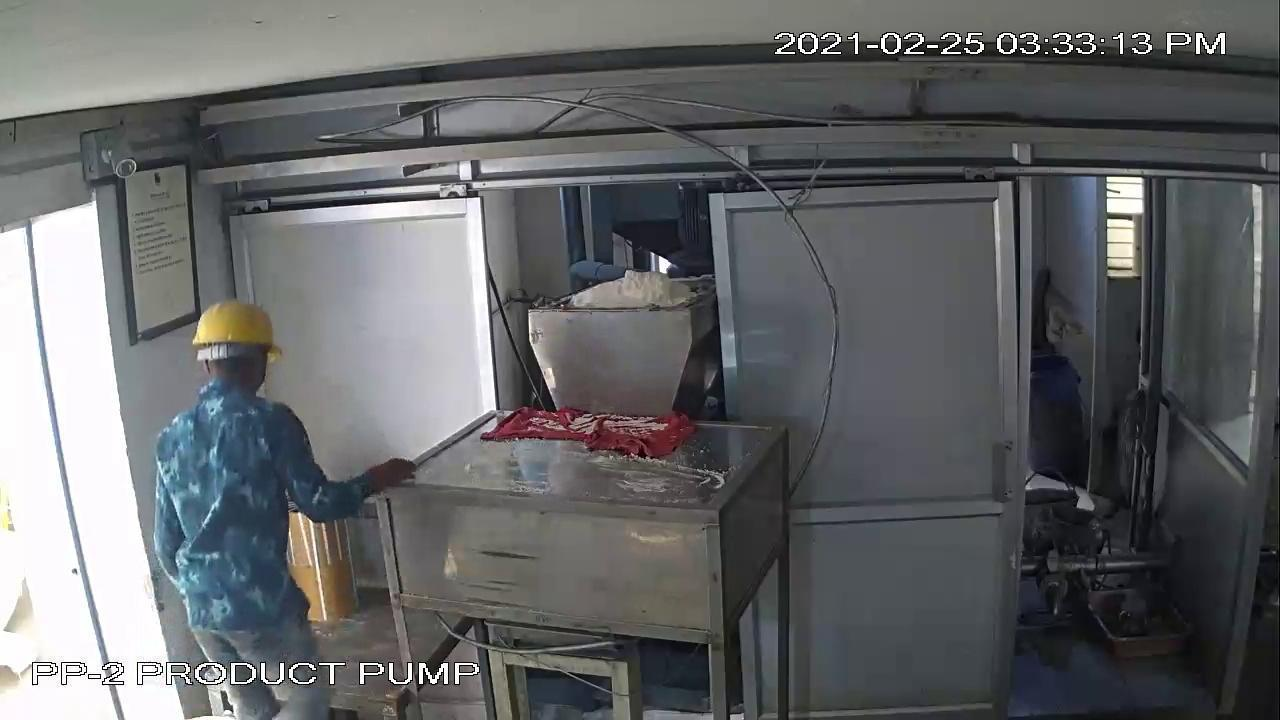helmet: (181, 295, 288, 371)
